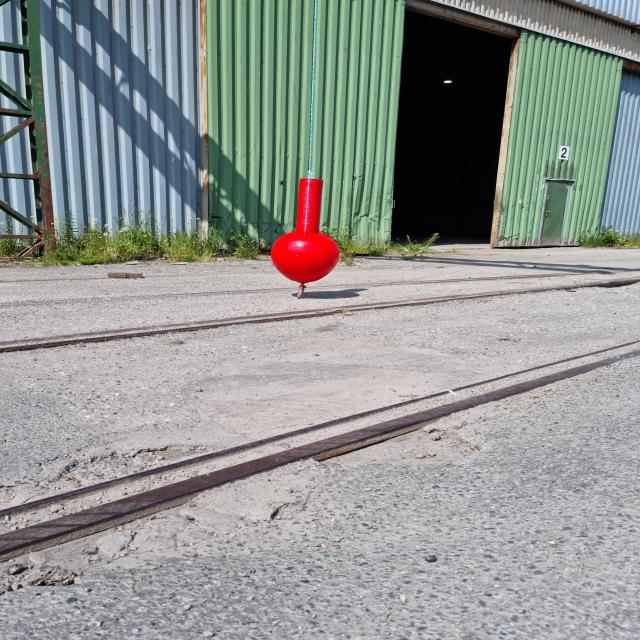red: (270, 179, 338, 283)
